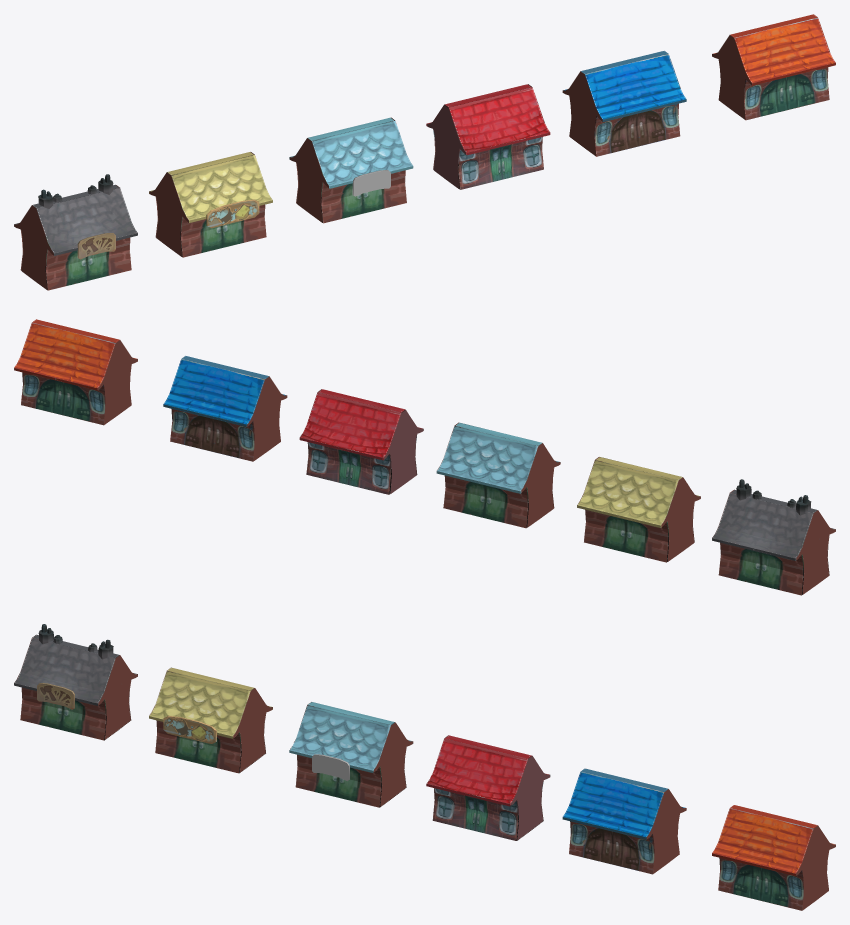
Rendered from ModularHousesSeperate.fbx.
3 views of the same model, one above another, from view 1: azimuth 30°, elevation 25°; view 2: azimuth 150°, elevation 25°; view 3: azimuth 330°, elevation 25° (orthographic).
Visible parts, largest first — view 1: Workplace, Slaapzaal, OpzienerHuis, Ziekenzaal, School, Bathhouse; view 2: Workplace, OpzienerHuis, Slaapzaal, Ziekenzaal, Bathhouse, School; view 3: Workplace, OpzienerHuis, Slaapzaal, Ziekenzaal, Bathhouse, School.
Boxes of the visible parts, x1,y1,x2,y2 form: Workplace: (14, 174, 137, 290); Slaapzaal: (712, 14, 835, 120); OpzienerHuis: (562, 50, 686, 156); Ziekenzaal: (289, 117, 413, 223); School: (426, 84, 550, 189); Bathhouse: (149, 152, 272, 257); Workplace: (712, 479, 835, 595); OpzienerHuis: (163, 356, 287, 461); Slaapzaal: (14, 319, 137, 425); Ziekenzaal: (436, 422, 560, 528); Bathhouse: (577, 457, 700, 562); School: (299, 389, 423, 494); Workplace: (14, 624, 137, 740); OpzienerHuis: (562, 768, 686, 874); Slaapzaal: (712, 805, 835, 910); Ziekenzaal: (289, 702, 413, 807); Bathhouse: (149, 667, 272, 773); School: (426, 735, 550, 840).
Bounding box in the file's own units: 2113 × 227 × 197.
